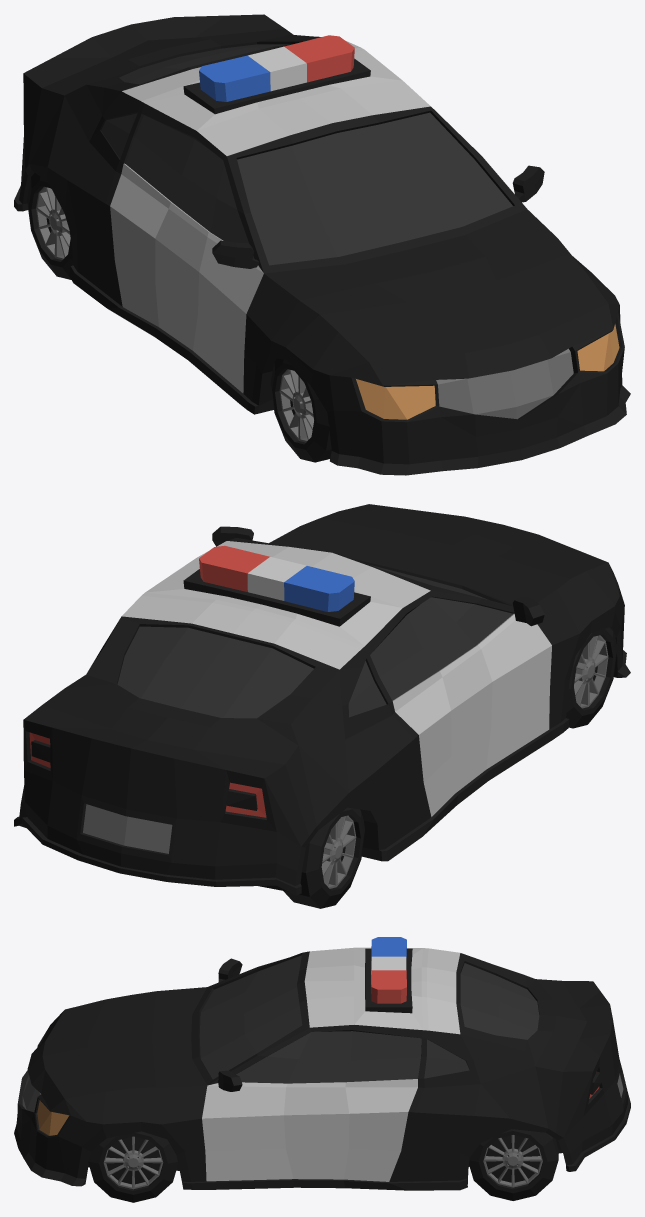
The model's file is q-police-car-bwwnurwgmv.glb.
3 renders of one model, top to bottom at view 1: azimuth 30°, elevation 25°; view 2: azimuth 150°, elevation 25°; view 3: azimuth 270°, elevation 25°, orthographic. The views are drawn at different scales.
Parts seen in each view (by area): view 1: Cop_Cube.001, Cop_FrontRightWheel_Cylinder.012, Cop_BackWheels_Cylinder.001; view 2: Cop_Cube.001, Cop_BackWheels_Cylinder.001, Cop_FrontRightWheel_Cylinder.012; view 3: Cop_Cube.001, Cop_BackWheels_Cylinder.001, Cop_FrontLeftWheel_Cylinder.011.
Part boxes in pixels (x1=…): Cop_Cube.001: x1=14, y1=14, x2=630, y2=475; Cop_FrontRightWheel_Cylinder.012: x1=270, y1=358, x2=331, y2=462; Cop_BackWheels_Cylinder.001: x1=27, y1=173, x2=73, y2=279; Cop_Cube.001: x1=14, y1=504, x2=630, y2=895; Cop_BackWheels_Cylinder.001: x1=283, y1=807, x2=364, y2=908; Cop_FrontRightWheel_Cylinder.012: x1=566, y1=627, x2=617, y2=728; Cop_Cube.001: x1=14, y1=937, x2=630, y2=1190; Cop_BackWheels_Cylinder.001: x1=469, y1=1129, x2=558, y2=1200; Cop_FrontLeftWheel_Cylinder.011: x1=88, y1=1131, x2=178, y2=1202.
Bounding box in the file's own units: 1.78 × 1.24 × 3.73.
